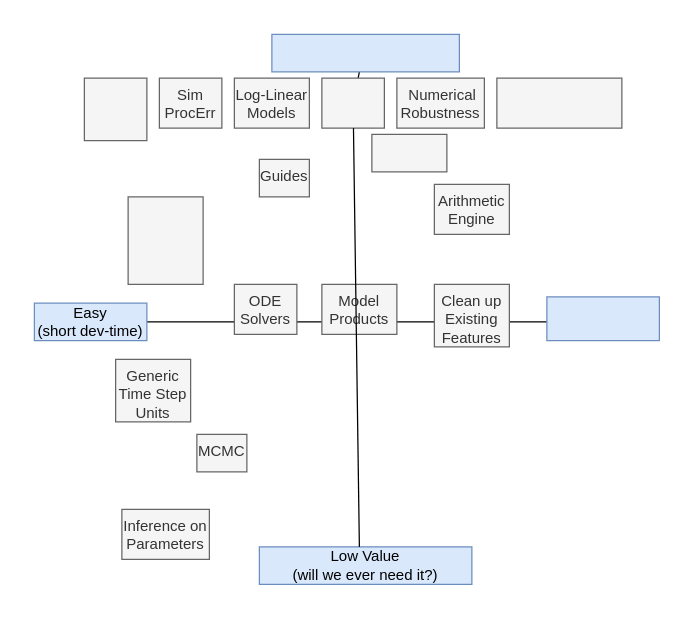
Some shapes in this 693 by 618 pixel diagram are drawn without their labels. The shapes that lost their labels are listed below. From the top down, each one's centre as x and y in pixels, then its label:
At pixel 365 52: "High Value (need it yesterday)".
At pixel 115 109: "Uneven Lagged Diff".
At pixel 352 102: "Calib ProcErr".
At pixel 559 102: "Modularization & Software Stability".
At pixel 409 152: "R0,Gbar,r".
At pixel 165 240: "Flows without per-capita Rates".
At pixel 602 318: "Hard (long dev-time)".
